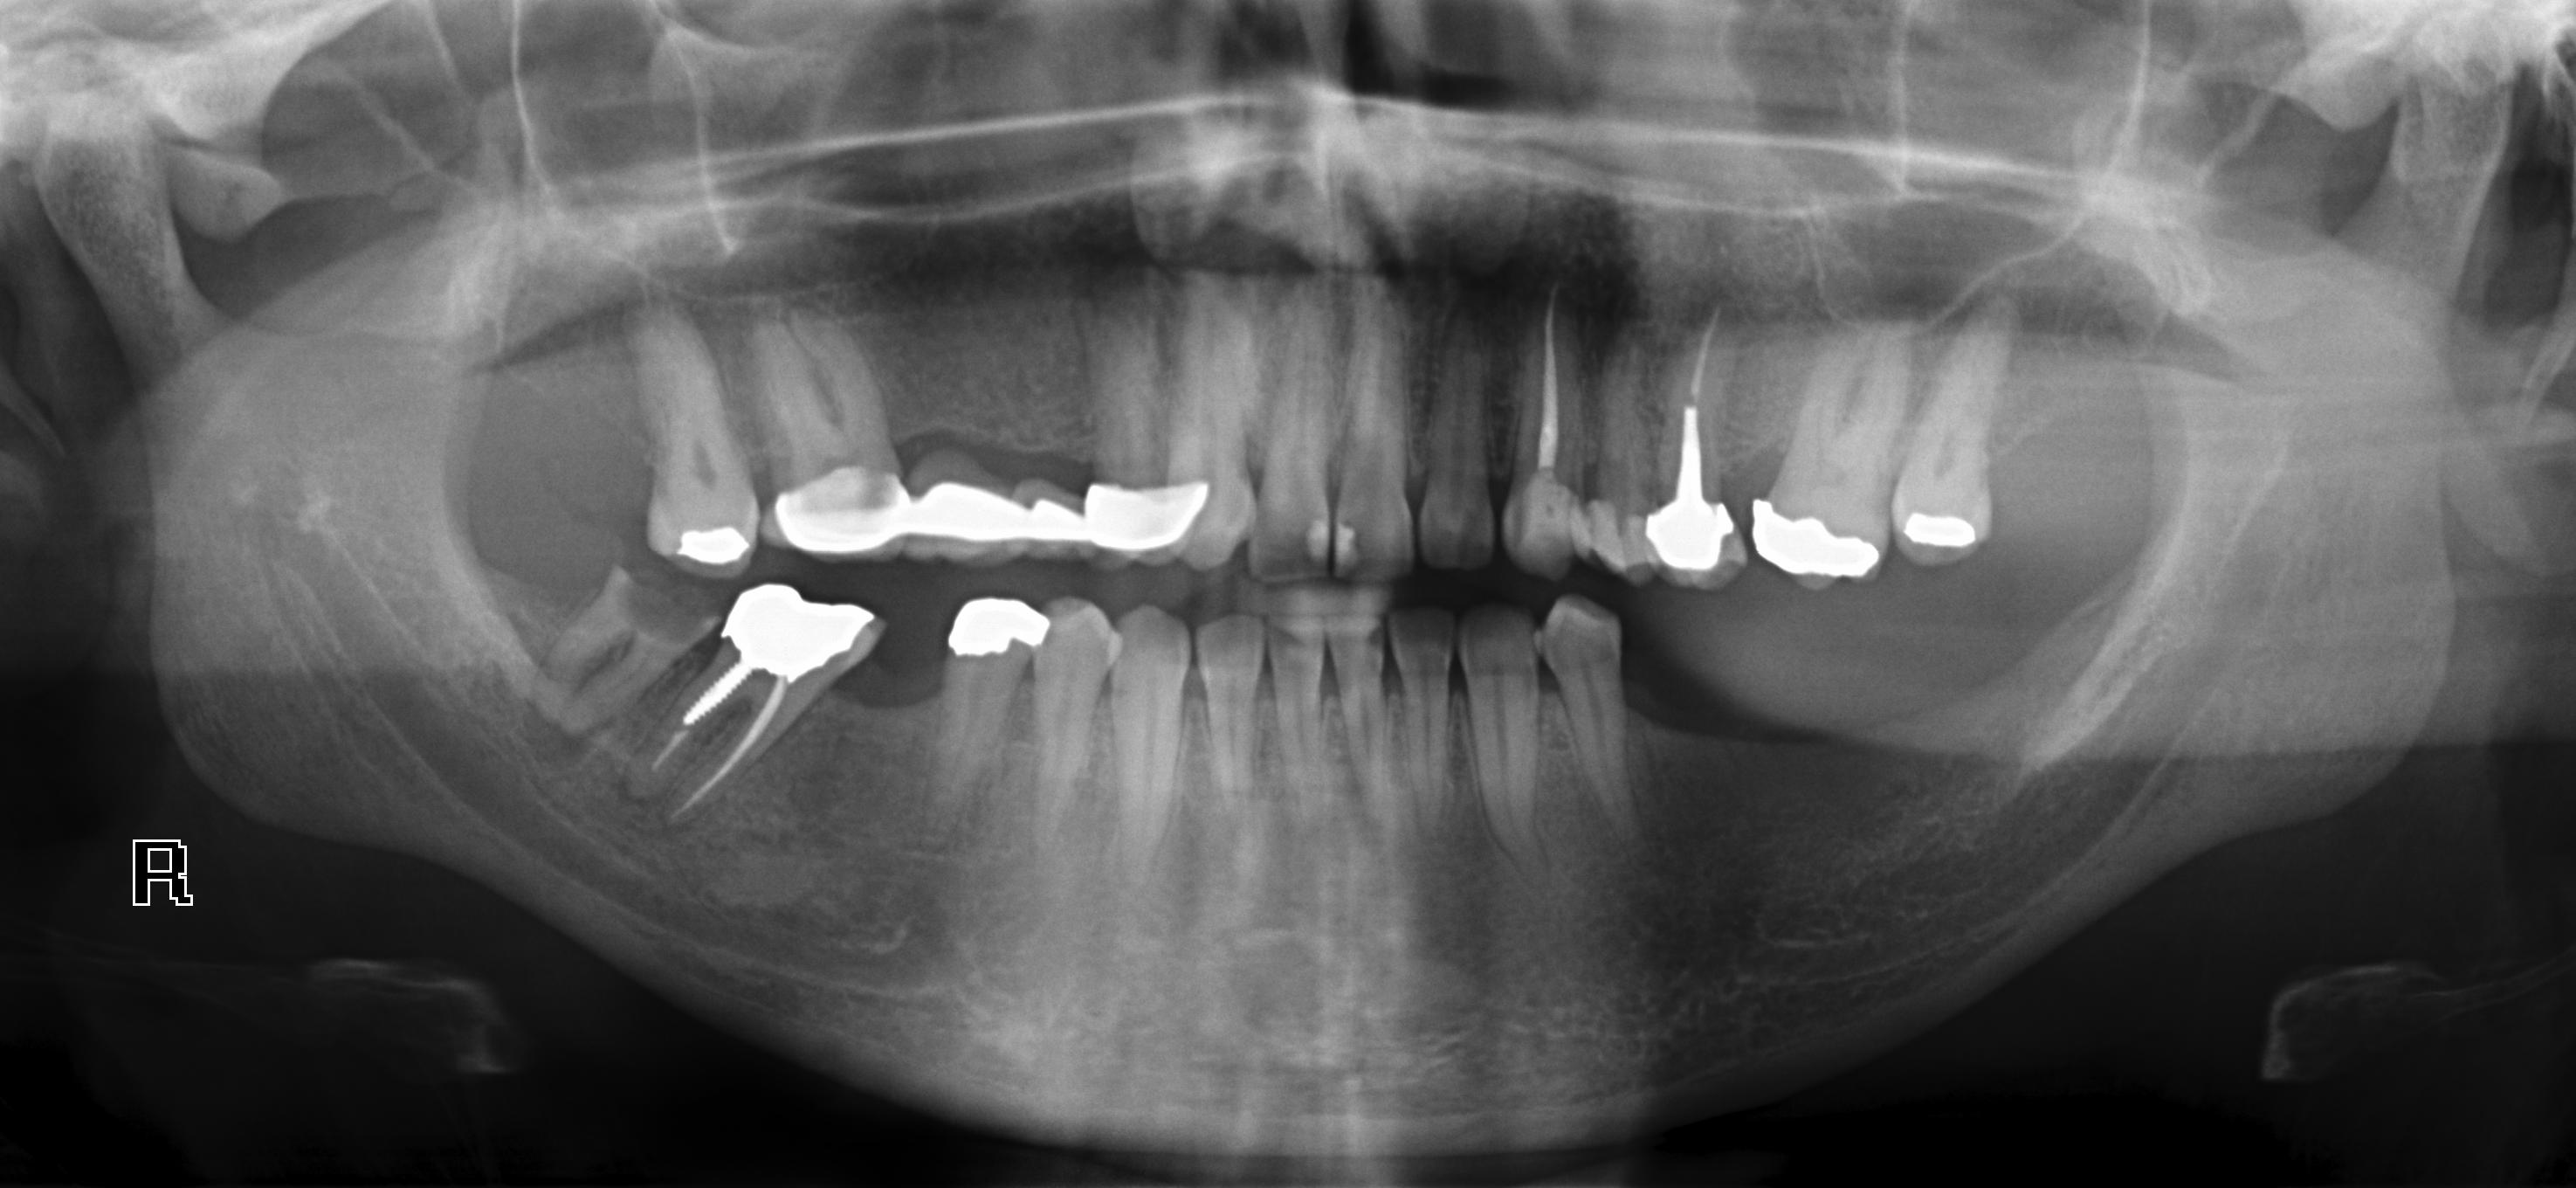Çürük: (723, 582, 867, 670), (1746, 503, 1896, 588), (774, 462, 905, 555), (1076, 473, 1211, 550), (941, 596, 1053, 659), (1644, 496, 1730, 575), (679, 523, 756, 567), (1899, 511, 1980, 549)
Çürük Bölgesi: (611, 573, 711, 639)
